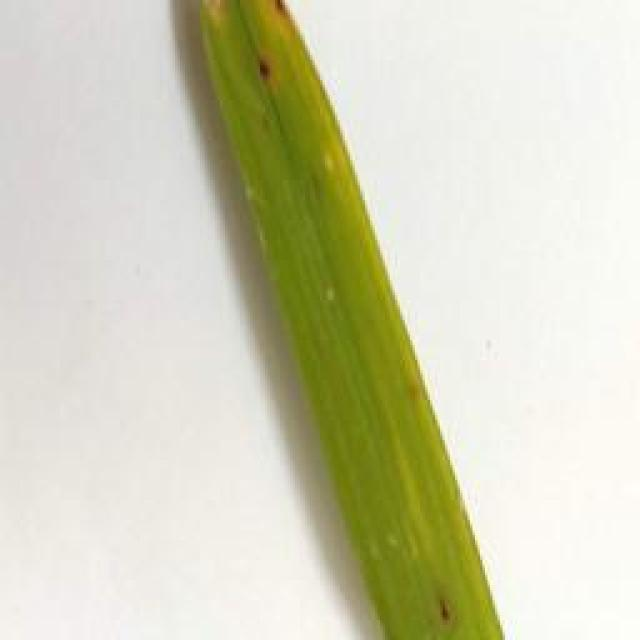Brown_Spot: (430, 584, 459, 628), (250, 46, 279, 87)
